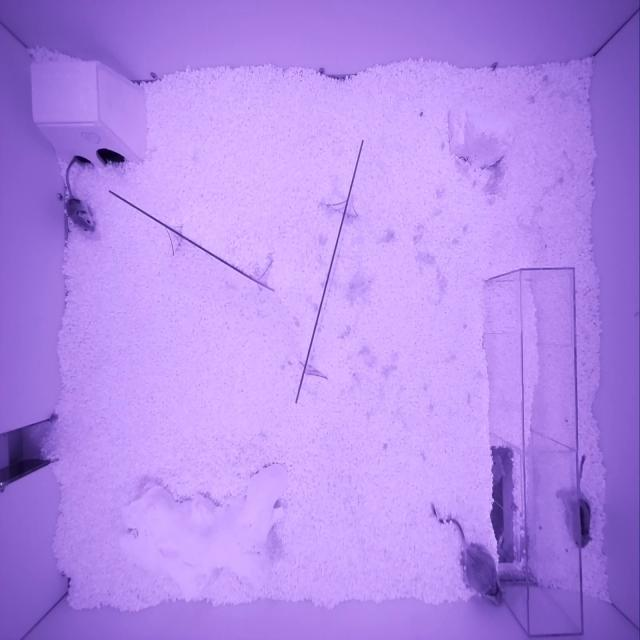adult_front: (460, 542, 504, 605)
pup_spotted: (64, 197, 96, 231)
pup_v_stripe: (562, 490, 592, 549)
